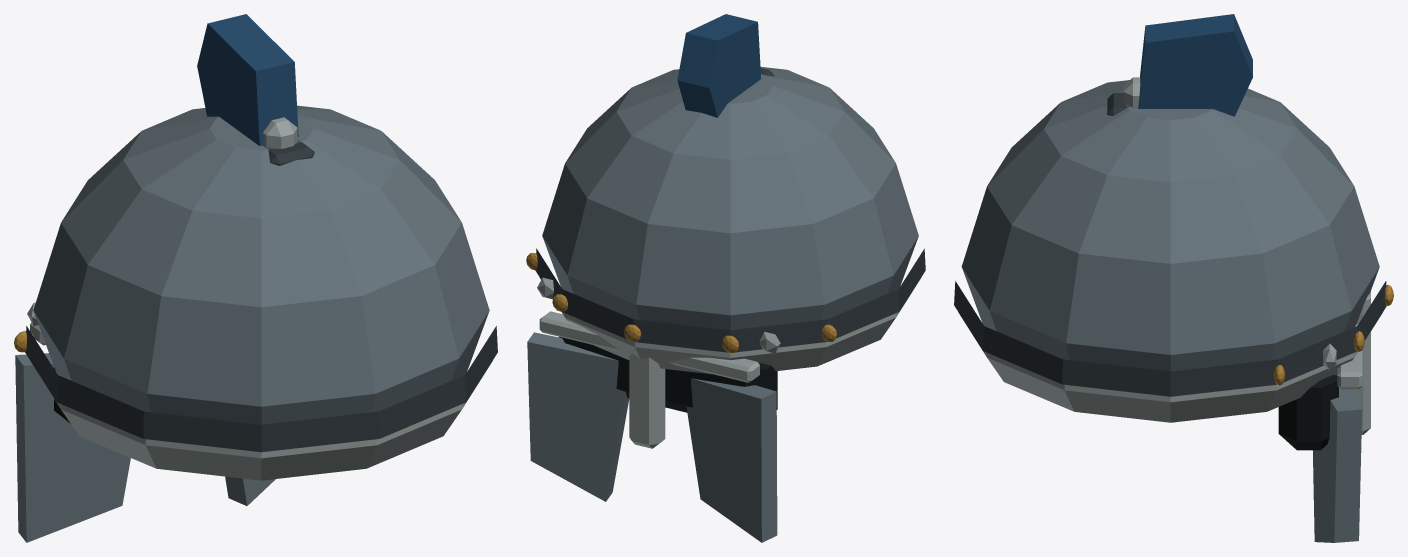
Rendered from Head.glb.
The picture shows the model from 3 angles, left to right: view 1: azimuth 30°, elevation 25°; view 2: azimuth 150°, elevation 25°; view 3: azimuth 270°, elevation 25°; orthographic projection. The views are drawn at different scales.
Visible parts, largest first — view 1: Sculpture; view 2: Sculpture; view 3: Sculpture.
Boxes of the visible parts, bbox=[...] form: Sculpture: bbox=[14, 14, 497, 542]; Sculpture: bbox=[526, 14, 925, 542]; Sculpture: bbox=[954, 14, 1393, 542].
Bounding box in the file's own units: 0.684 × 0.8552 × 0.6943.
